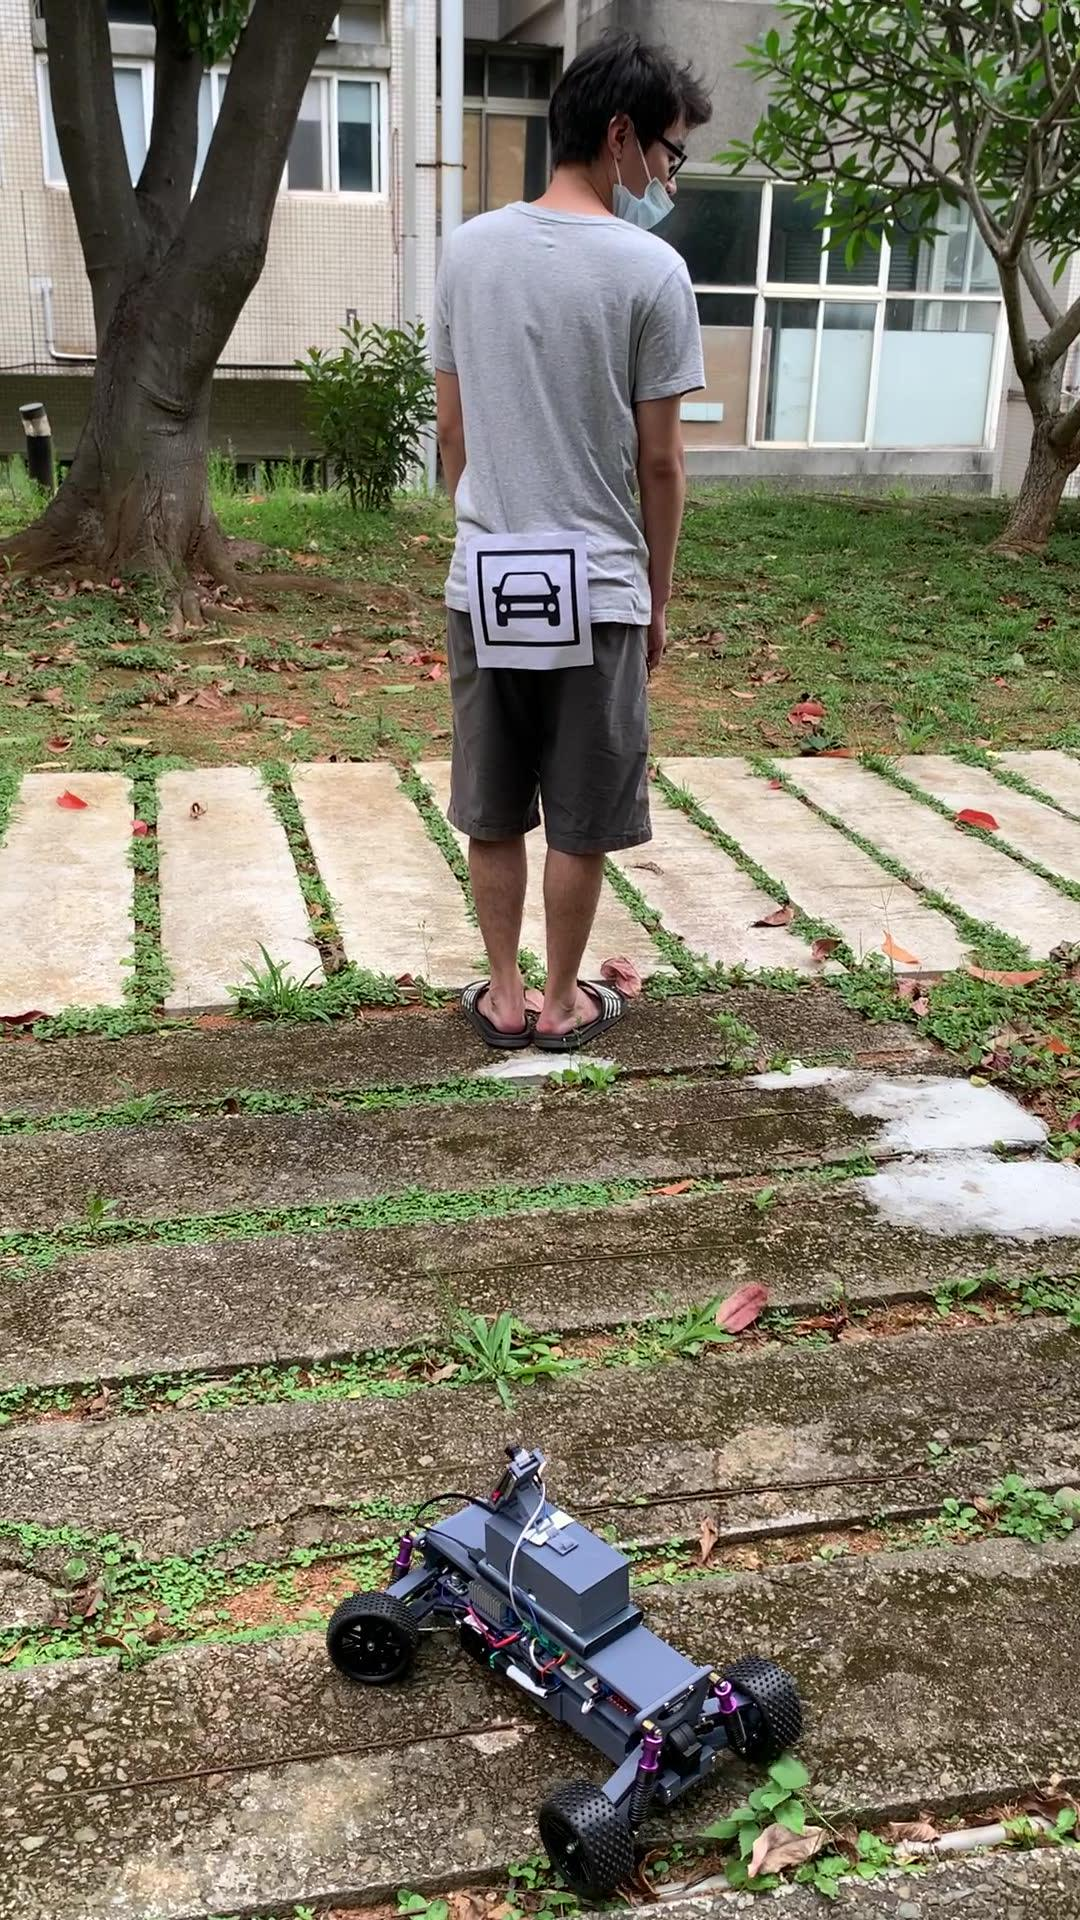car_img: (476, 547, 582, 647)
